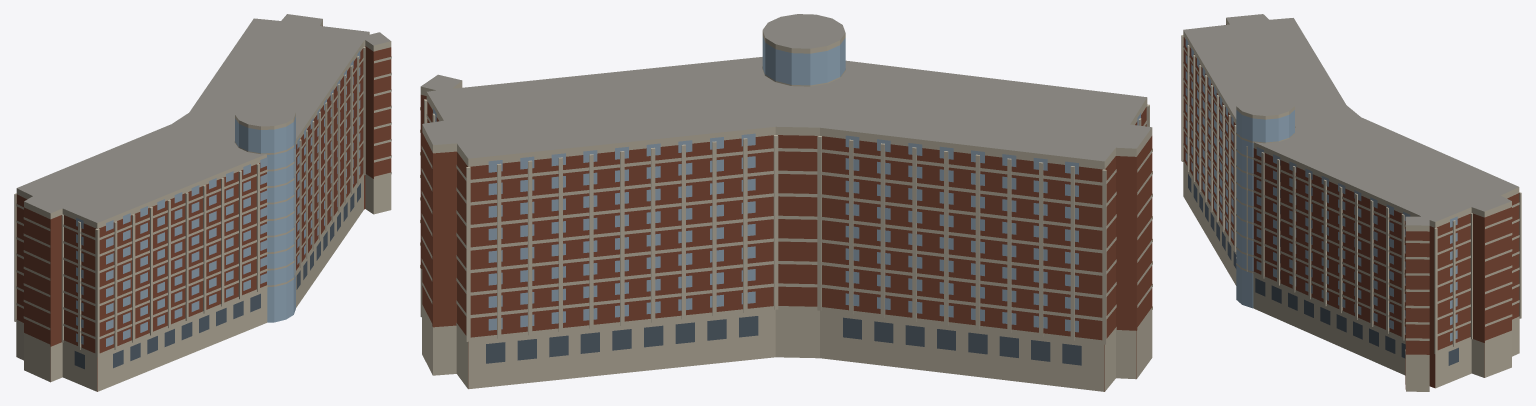
The model's file is jesse-powell-towers.glb.
3 renders of one model, left to right at view 1: azimuth 30°, elevation 25°; view 2: azimuth 150°, elevation 25°; view 3: azimuth 270°, elevation 25°, orthographic. The views are drawn at different scales.
Visible parts, largest first — view 1: jesse_powell_towers; view 2: jesse_powell_towers; view 3: jesse_powell_towers.
Part boxes in pixels (x1,y1,x2,y2): jesse_powell_towers: (14,14,391,391); jesse_powell_towers: (420,14,1152,391); jesse_powell_towers: (1181,14,1521,391).
Size of the model in its own units: 76.82 by 32.7 by 52.1.
